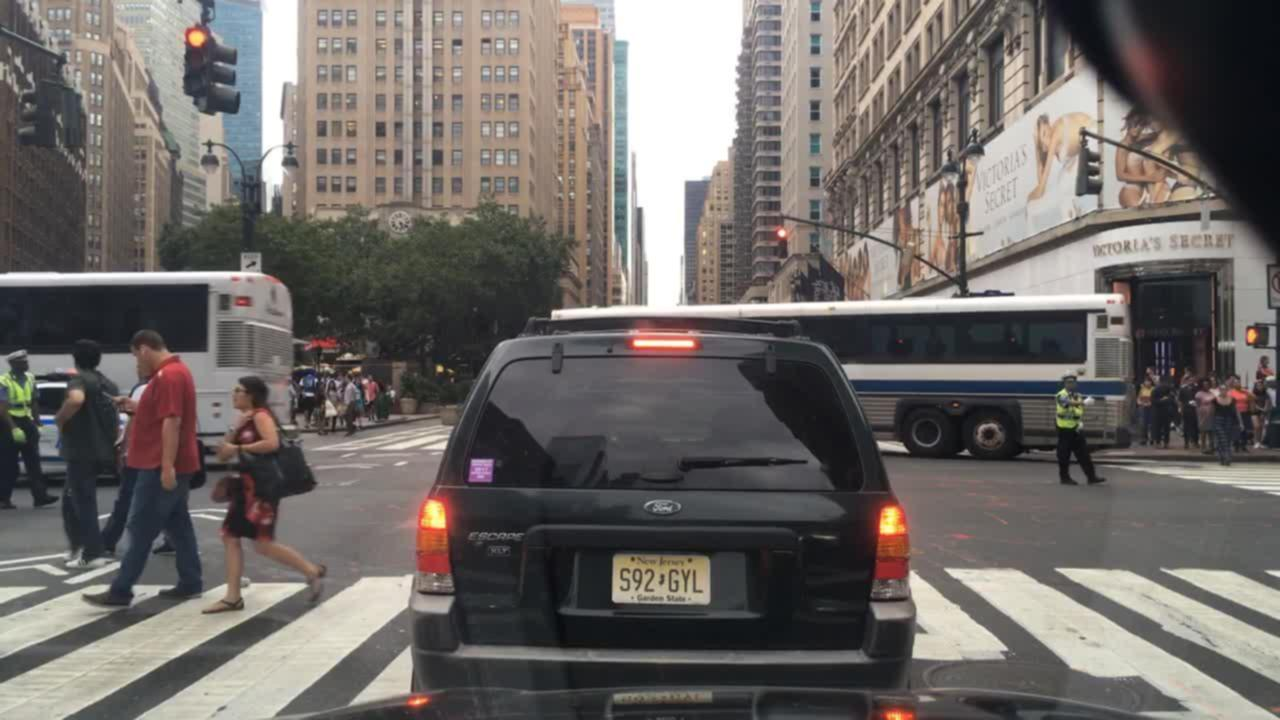ford: (635, 495, 692, 522)
